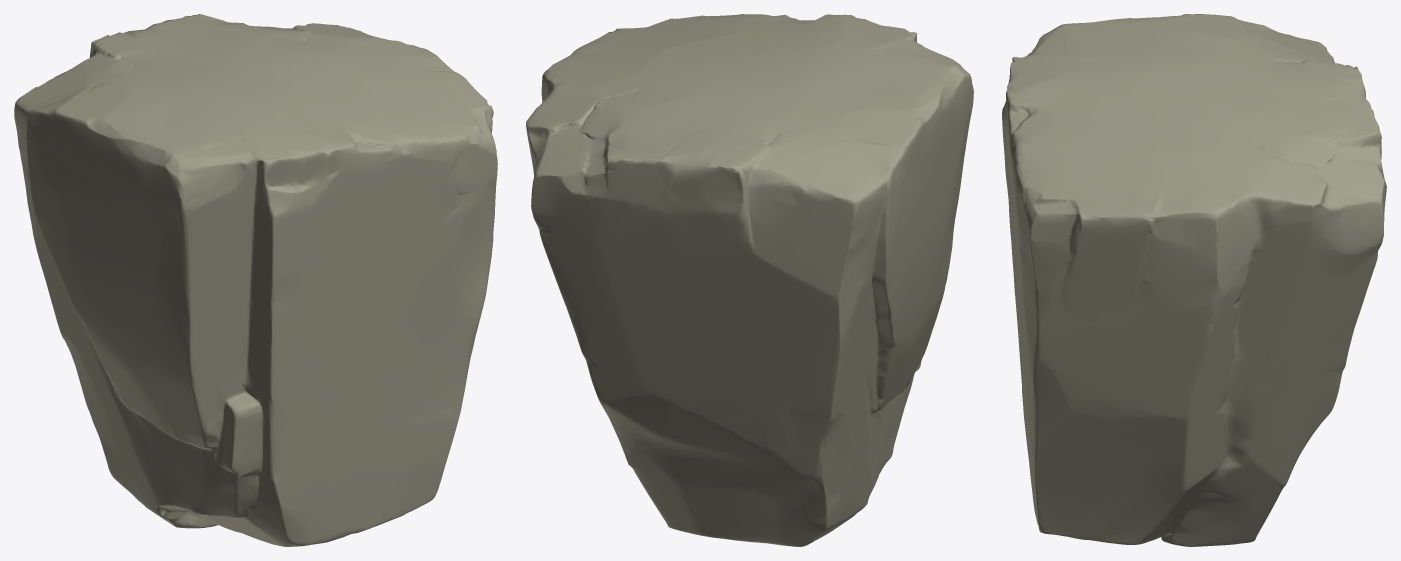
The picture shows the model from 3 angles, left to right: view 1: azimuth 30°, elevation 25°; view 2: azimuth 150°, elevation 25°; view 3: azimuth 270°, elevation 25°; orthographic projection. The views are drawn at different scales.
Parts seen in each view (by area): view 1: SM_BM_Cliff_Top_03_LOD0; view 2: SM_BM_Cliff_Top_03_LOD0; view 3: SM_BM_Cliff_Top_03_LOD0.
Boxes of the visible parts, x1=… form: SM_BM_Cliff_Top_03_LOD0: x1=14, y1=14, x2=497, y2=546; SM_BM_Cliff_Top_03_LOD0: x1=526, y1=14, x2=973, y2=546; SM_BM_Cliff_Top_03_LOD0: x1=1002, y1=14, x2=1386, y2=546.
Bounding box in the file's own units: 15.04 × 16.81 × 13.52.
